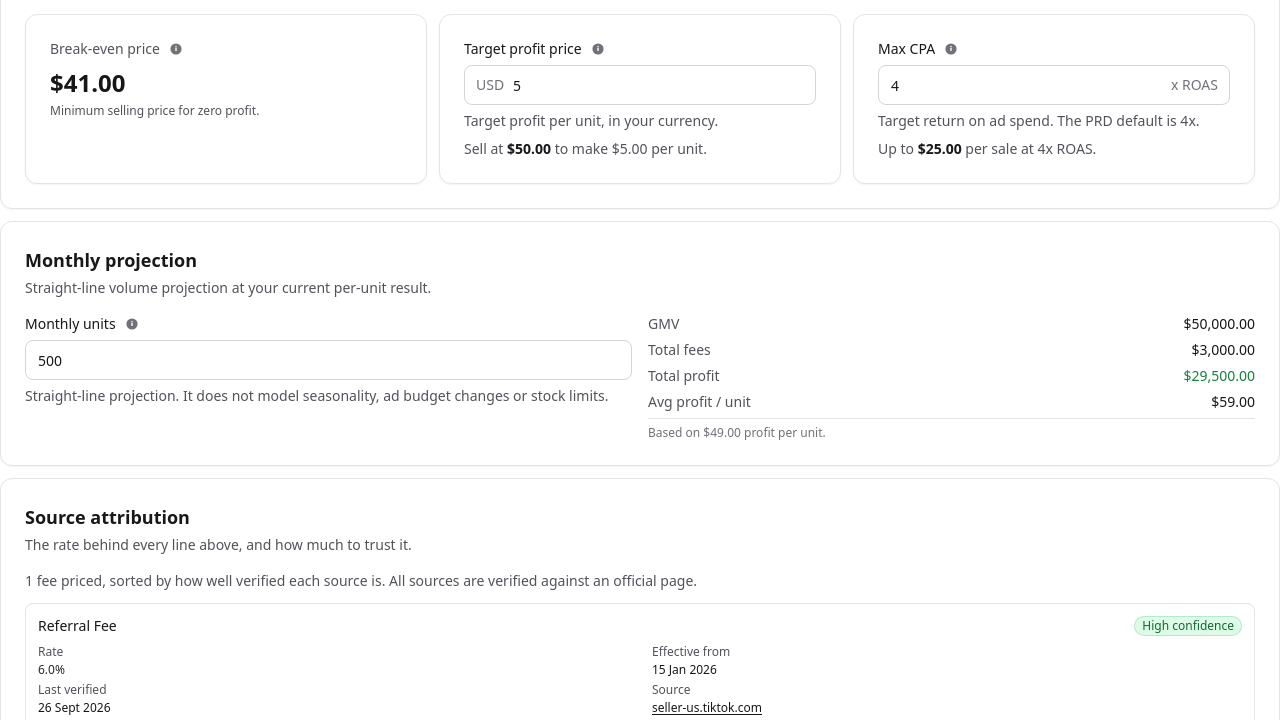
Test case: ResultsPanel › re-runs when the monthly units change
(page scrolled)
Step 1. Replace the text in the number field labelled "Monthly units" with "1000" → (328, 360), box [25, 340, 632, 380]
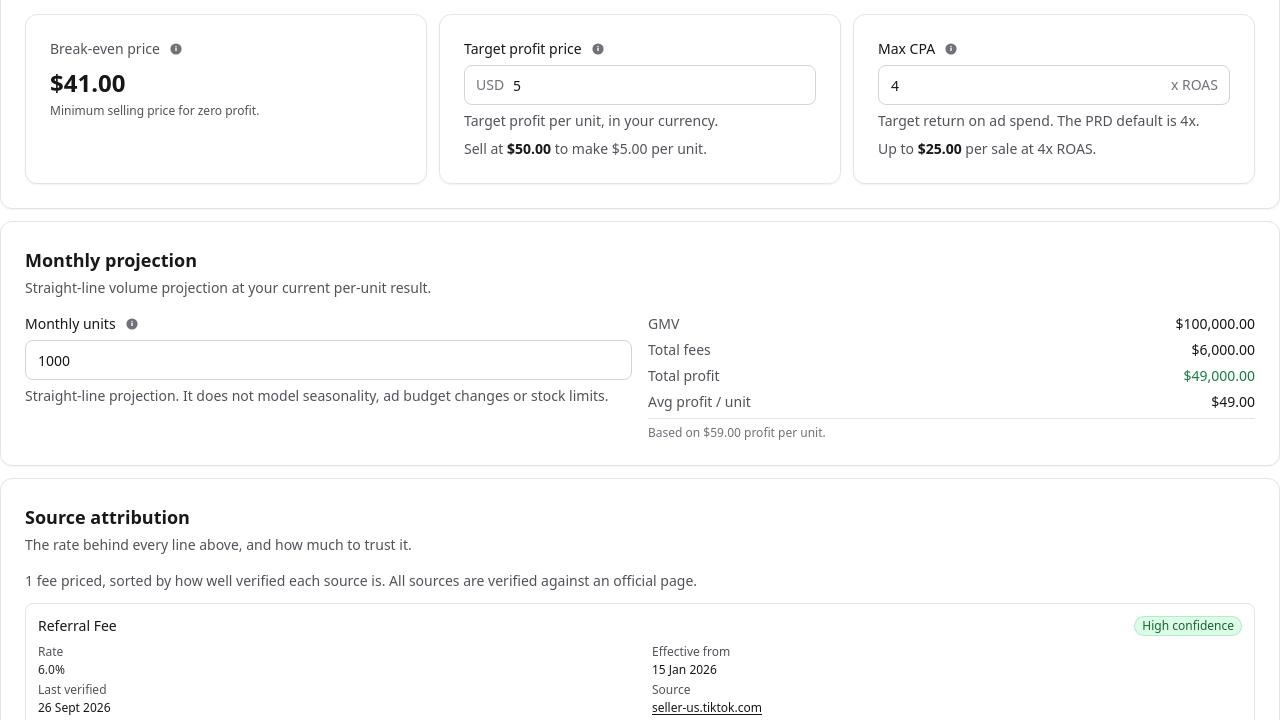
Expected: the text "$100,000.00" is shown, [1175, 314, 1255, 334]
